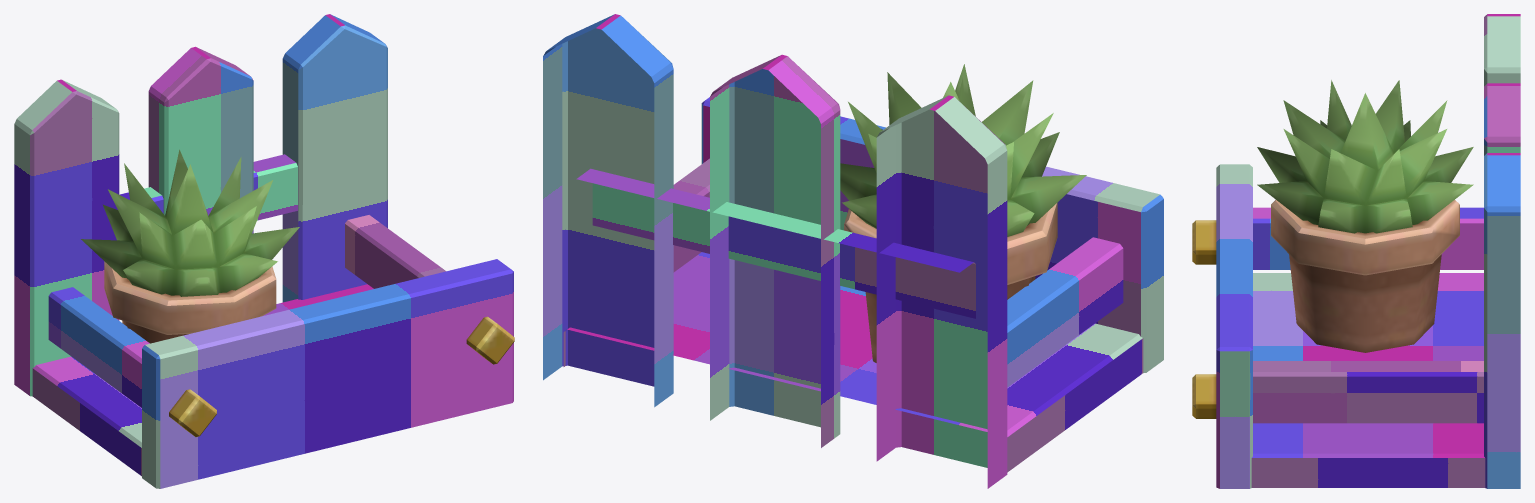
The model's file is rmk_blu_shelf_wall_jwl.dae.
The picture shows the model from 3 angles, left to right: view 1: azimuth 30°, elevation 25°; view 2: azimuth 150°, elevation 25°; view 3: azimuth 270°, elevation 25°; orthographic projection. The views are drawn at different scales.
Visible parts, largest first — view 1: bs_J_1_0, bs_J_0_0; view 2: bs_J_1_0, bs_J_0_0; view 3: bs_J_1_0, bs_J_0_0.
Boxes of the visible parts, box(x1,y1,x2,y2) form: bs_J_1_0: box(14, 14, 513, 488); bs_J_0_0: box(81, 149, 514, 436); bs_J_1_0: box(543, 14, 1163, 488); bs_J_0_0: box(840, 64, 1086, 362); bs_J_1_0: box(1216, 14, 1520, 488); bs_J_0_0: box(1192, 80, 1473, 418).
Bounding box in the file's own units: 24 × 18.83 × 17.96.
Materials: 2 (2 with a texture image).
